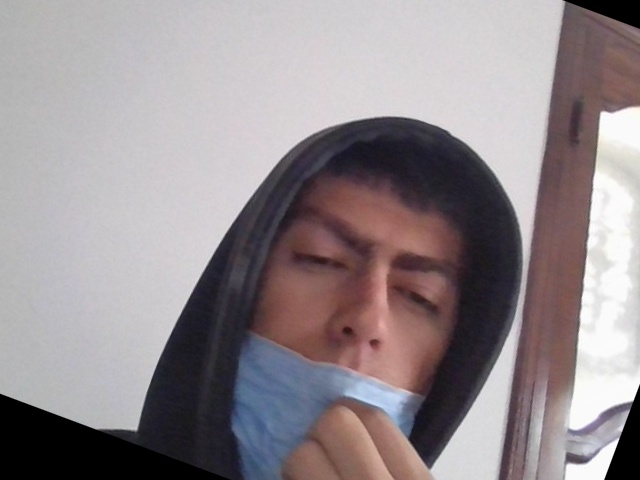mask_weared_incorrect: (239, 131, 459, 480)
